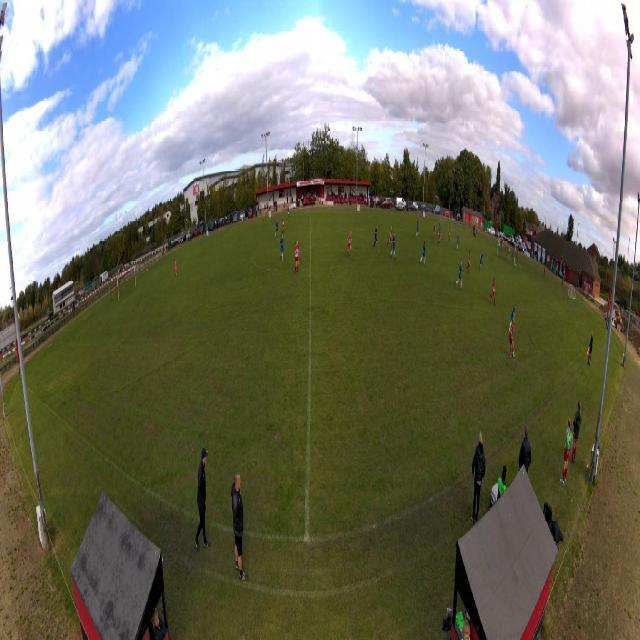ball: (513, 351, 515, 358)
player: (293, 239, 300, 277), (455, 260, 463, 292), (509, 318, 515, 359), (509, 303, 517, 332), (489, 276, 496, 308), (419, 240, 427, 267), (390, 231, 397, 261), (346, 230, 353, 258), (466, 250, 472, 277), (373, 223, 379, 249), (280, 233, 285, 263), (386, 225, 392, 250), (275, 219, 280, 240), (479, 250, 484, 271), (281, 215, 285, 235), (416, 219, 420, 239), (456, 232, 460, 251), (432, 222, 436, 240), (438, 227, 442, 245), (507, 247, 511, 264), (437, 221, 441, 238), (175, 258, 178, 279), (448, 227, 451, 244)
